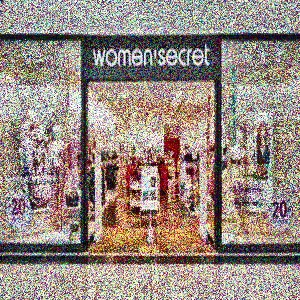women_secret: (173, 21, 257, 64)
